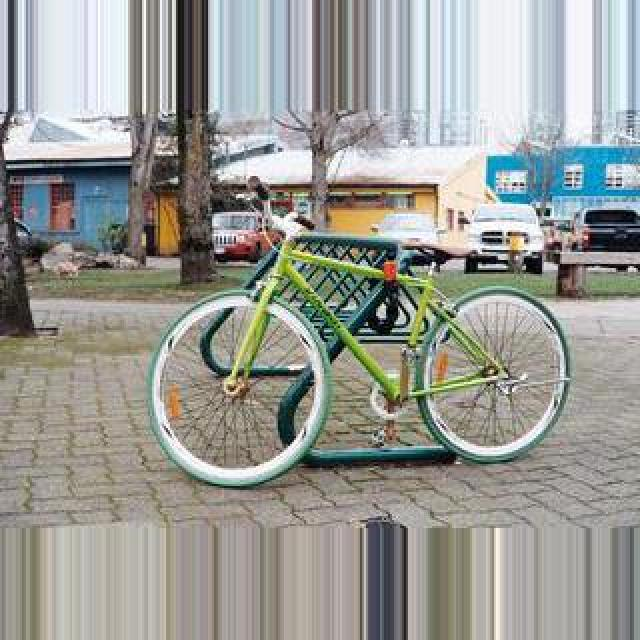Bus-Bike: (466, 202, 546, 274), (568, 208, 640, 264), (210, 212, 274, 264), (370, 214, 438, 250)
Person: (151, 212, 573, 482)
Person-Bike: (466, 202, 546, 274)
